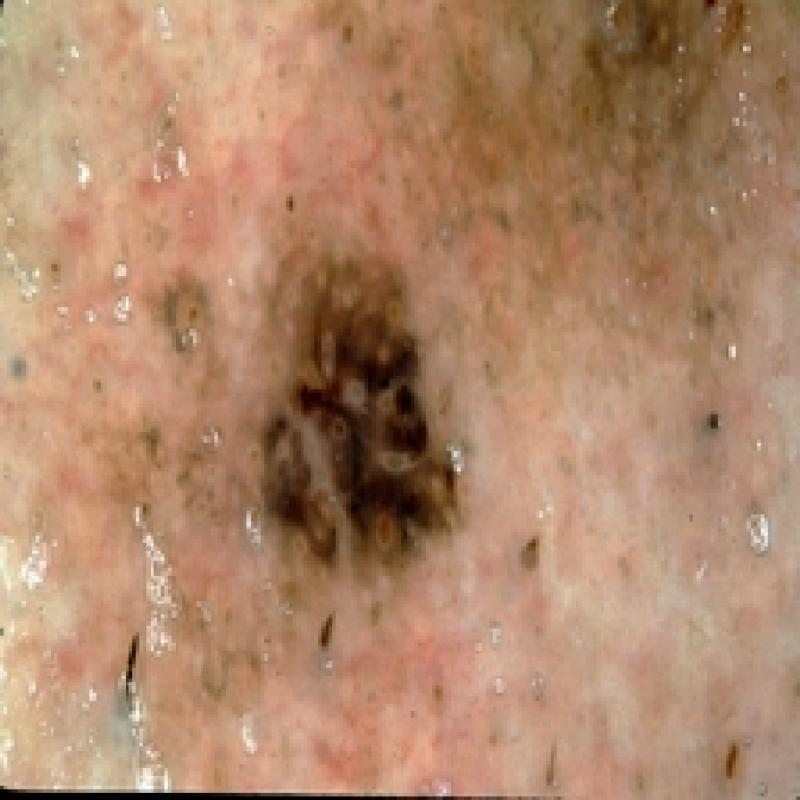malignant: (205, 223, 515, 615)
